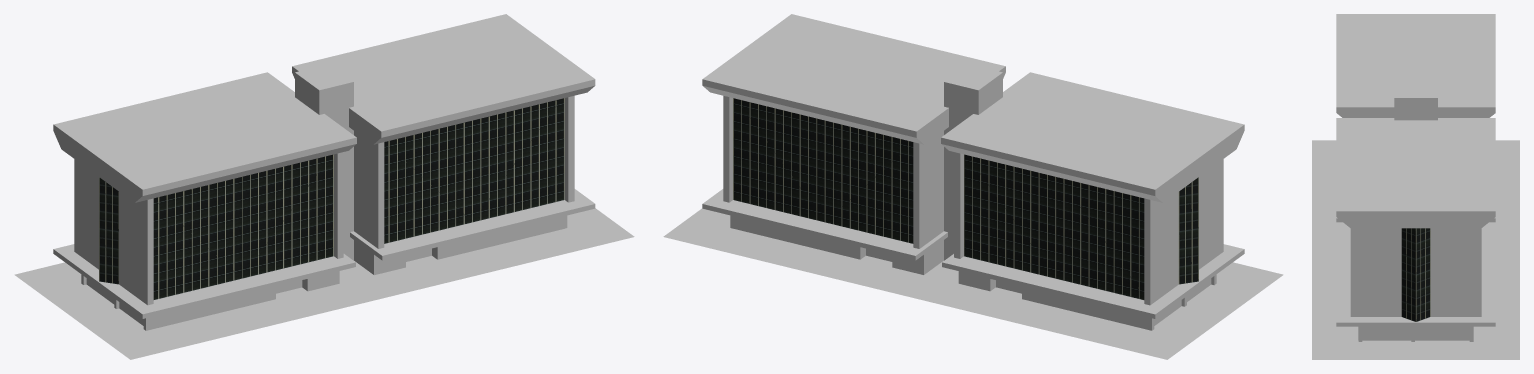
The picture shows the model from 3 angles, left to right: view 1: azimuth 30°, elevation 25°; view 2: azimuth 150°, elevation 25°; view 3: azimuth 270°, elevation 25°; orthographic projection. The views are drawn at different scales.
Parts seen in each view (by area): view 1: BB-056; view 2: BB-056; view 3: BB-056.
Part boxes in pixels (x1,y1,x2,y2): BB-056: (14, 14, 634, 359); BB-056: (663, 14, 1283, 359); BB-056: (1312, 14, 1519, 359).
Size of what is drawn, in the model's own units: 90 by 30.47 by 36.
